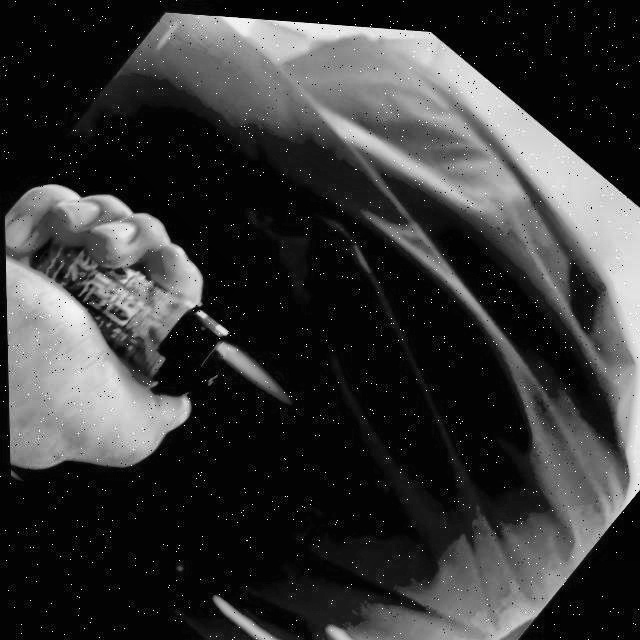Fire: (212, 334, 293, 409)
